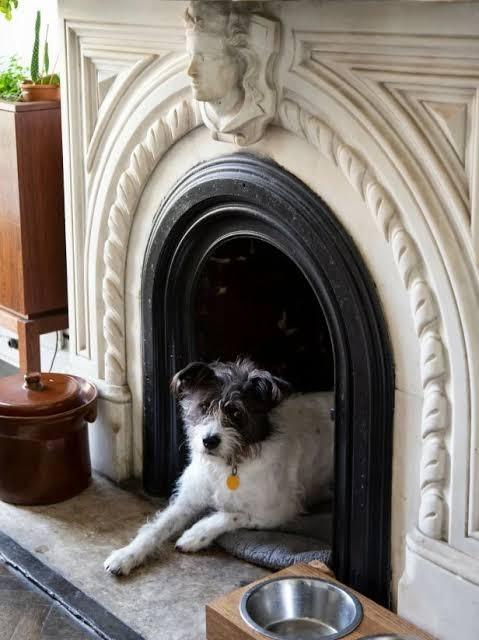adult_dog: (98, 350, 340, 577)
